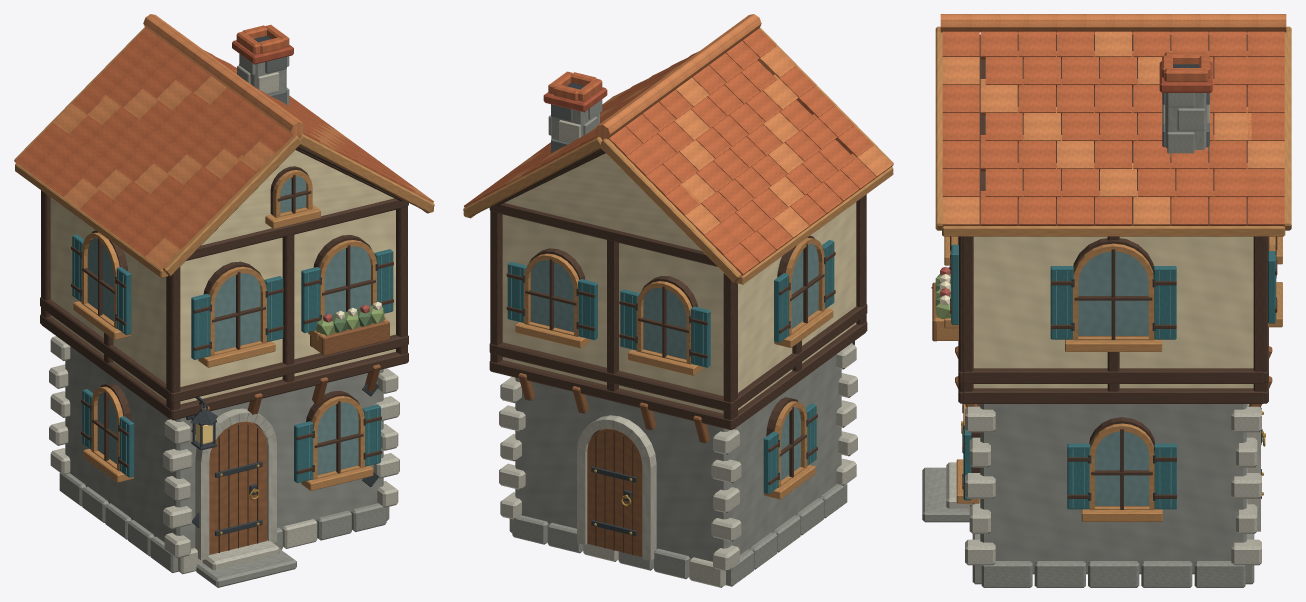
The model's file is house_lantern_townhouse.glb.
The picture shows the model from 3 angles, left to right: view 1: azimuth 30°, elevation 25°; view 2: azimuth 150°, elevation 25°; view 3: azimuth 270°, elevation 25°; orthographic projection. The views are drawn at different scales.
Parts seen in each view (by area): view 1: house_lantern_townhouse; view 2: house_lantern_townhouse; view 3: house_lantern_townhouse.
Part boxes in pixels (x1=…): house_lantern_townhouse: x1=14, y1=14, x2=434, y2=587; house_lantern_townhouse: x1=463, y1=14, x2=893, y2=587; house_lantern_townhouse: x1=922, y1=14, x2=1291, y2=587.
Size of the model in its own units: 4.33 by 6.64 by 4.33.
Materials: 1 (1 with a texture image).
